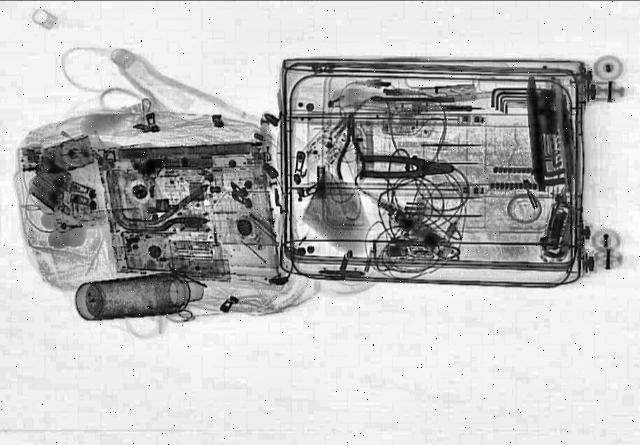Pliers: (357, 155, 453, 179), (334, 114, 364, 180)
